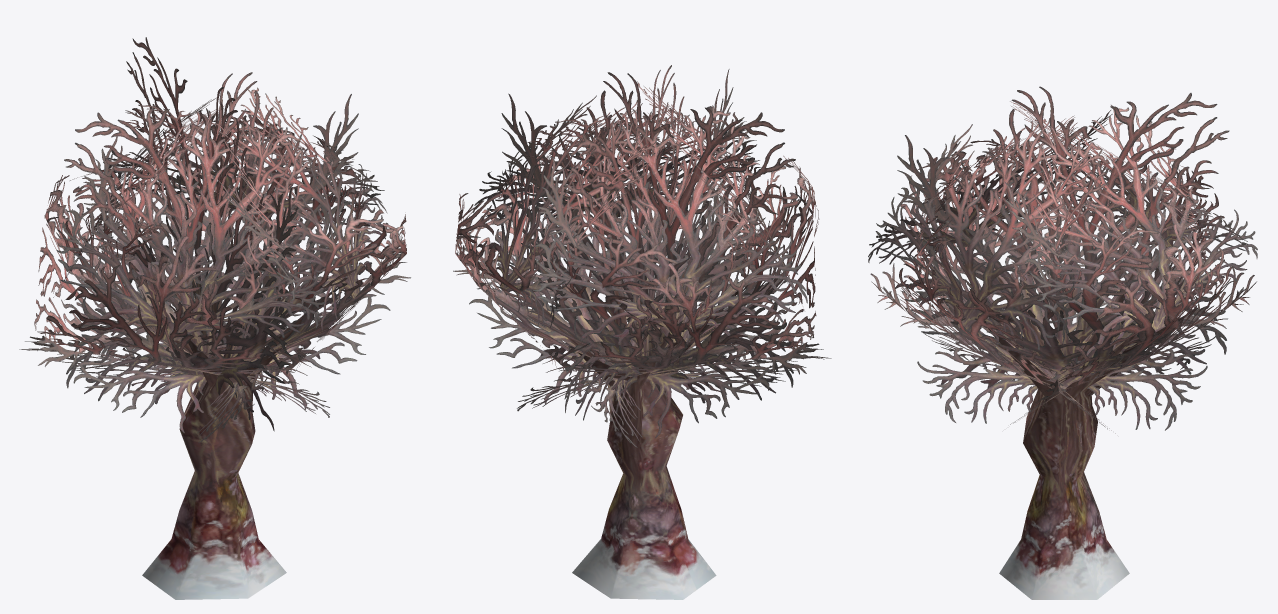
The model's file is dragonblight_treeinfected02.obj.
3 views of the same model, side by side, from view 1: azimuth 30°, elevation 25°; view 2: azimuth 150°, elevation 25°; view 3: azimuth 270°, elevation 25° (orthographic). The views are drawn at different scales.
Parts seen in each view (by area): view 1: Geoset1, Geoset0; view 2: Geoset1, Geoset0; view 3: Geoset1, Geoset0.
Boxes of the visible parts, x1=… form: Geoset1: x1=19, y1=37, x2=410, y2=443; Geoset0: x1=105, y1=227, x2=337, y2=599; Geoset1: x1=453, y1=65, x2=831, y2=447; Geoset0: x1=532, y1=238, x2=737, y2=599; Geoset1: x1=868, y1=86, x2=1257, y2=433; Geoset0: x1=949, y1=269, x2=1184, y2=599.
Bounding box in the file's own units: 41.79 × 52.87 × 39.33.
2 materials, 2 textured.
